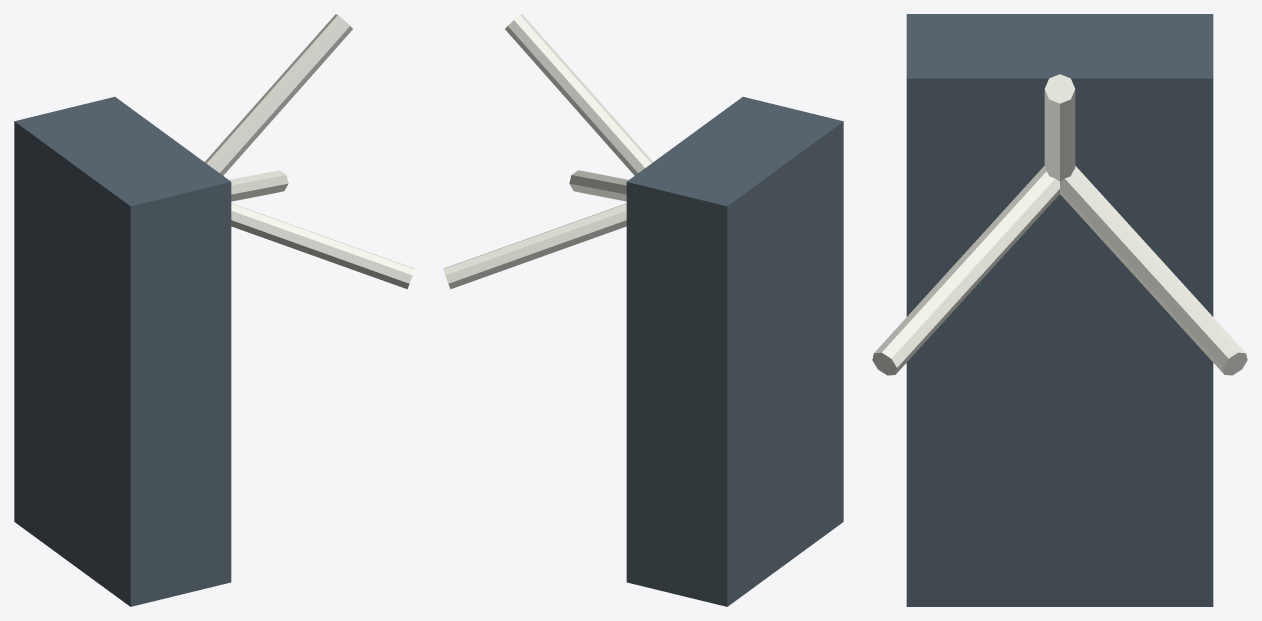
Rendered from turnstile.glb.
3 views of the same model, side by side, from view 1: azimuth 30°, elevation 25°; view 2: azimuth 150°, elevation 25°; view 3: azimuth 270°, elevation 25° (orthographic). The views are drawn at different scales.
Visible parts, largest first — view 1: tripod-turnstile; view 2: tripod-turnstile; view 3: tripod-turnstile.
Part boxes in pixels (left/top/right/bottom): tripod-turnstile: left=14, top=14, right=414, bottom=606; tripod-turnstile: left=443, top=14, right=843, bottom=606; tripod-turnstile: left=872, top=14, right=1247, bottom=606.
Bounding box in the file's own units: 0.6912 × 1.15 × 0.6119.
